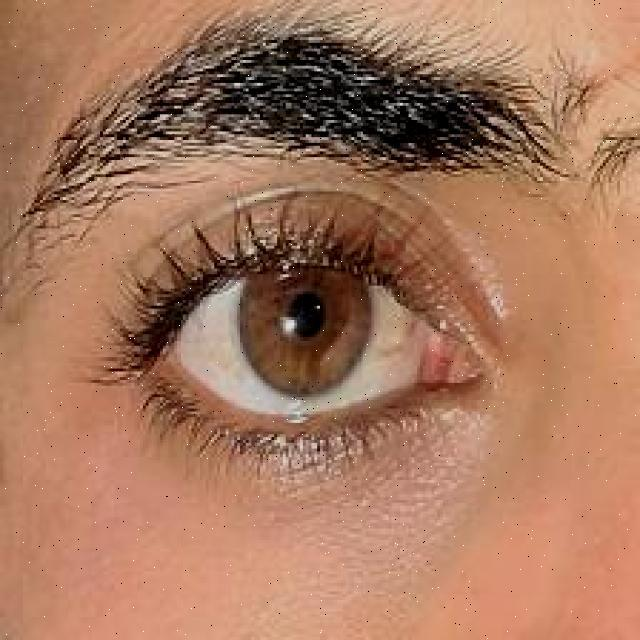Normal: (9, 97, 618, 557)
